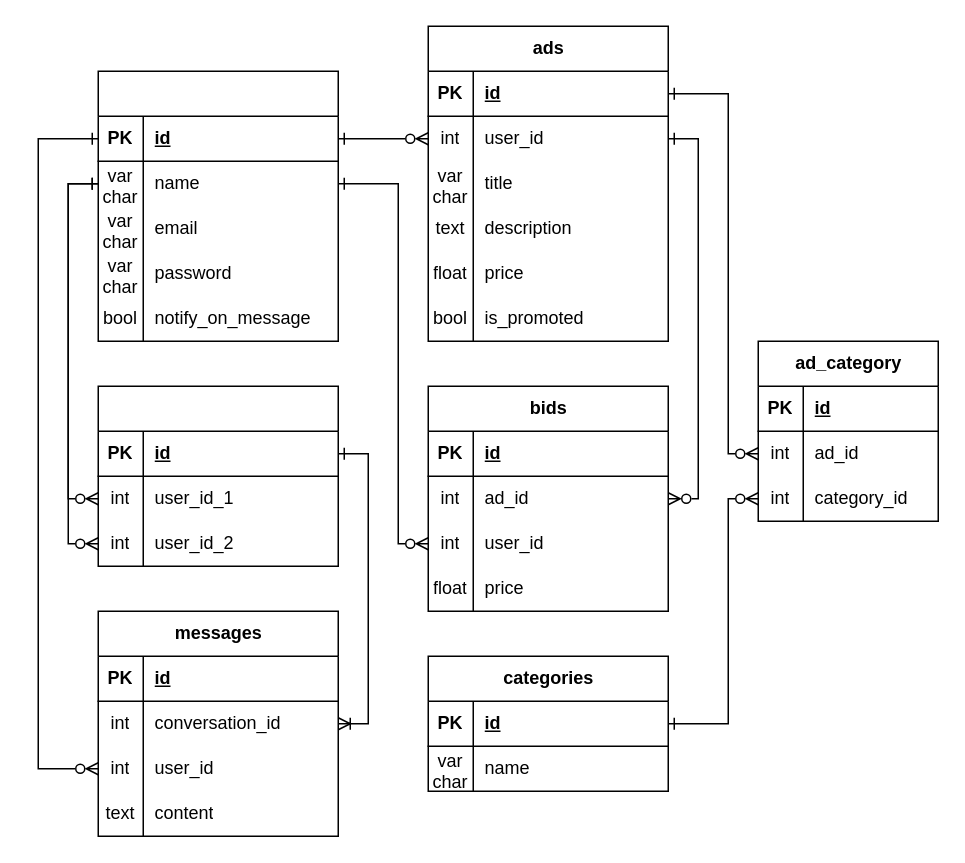
Some shapes in this 965 by 863 pixel diagram are drawn without their labels. Here are the shapes that lost their labels. From the top down, the box of each, then its label:
(97, 70, 338, 341): users
(97, 385, 338, 566): conversations
